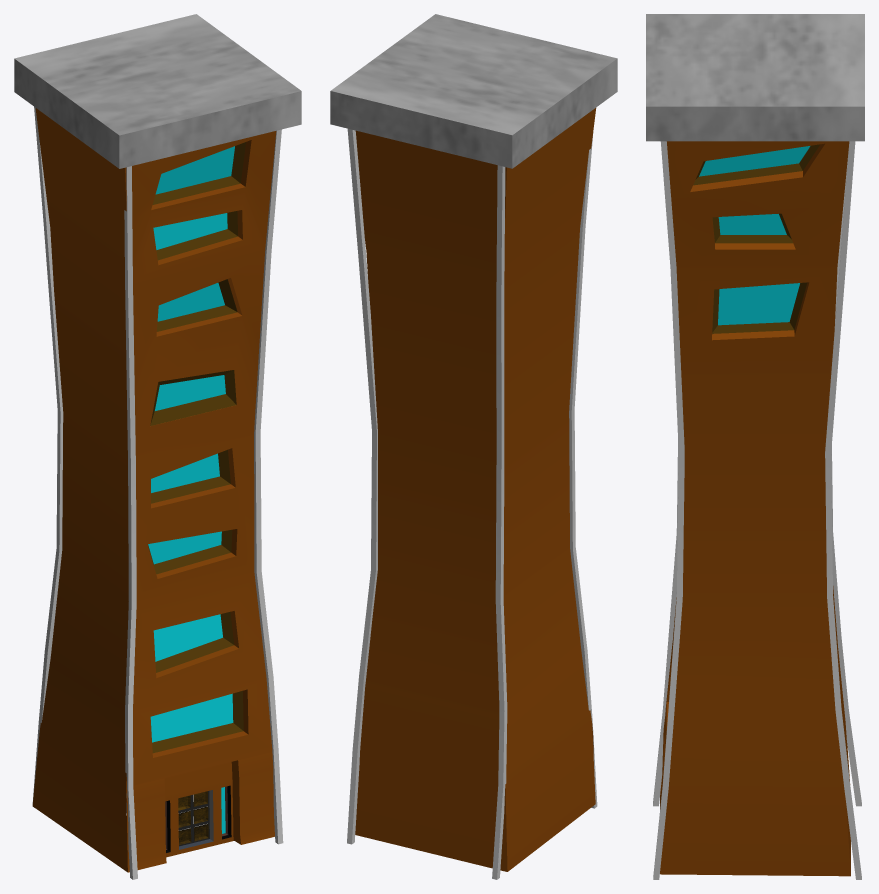
The model's file is PredioAltoFino-LaranjaEscuroJaneladireita.fbx.
The picture shows the model from 3 angles, left to right: view 1: azimuth 30°, elevation 25°; view 2: azimuth 150°, elevation 25°; view 3: azimuth 270°, elevation 25°; orthographic projection. The views are drawn at different scales.
Parts seen in each view (by area): view 1: PredioAltoFinoLOD0; view 2: PredioAltoFinoLOD0; view 3: PredioAltoFinoLOD0.
Boxes of the visible parts, bbox=[...] form: PredioAltoFinoLOD0: bbox=[14, 14, 301, 879]; PredioAltoFinoLOD0: bbox=[330, 14, 617, 879]; PredioAltoFinoLOD0: bbox=[646, 14, 864, 879].
Bounding box in the file's own units: 635 × 2498 × 635.
